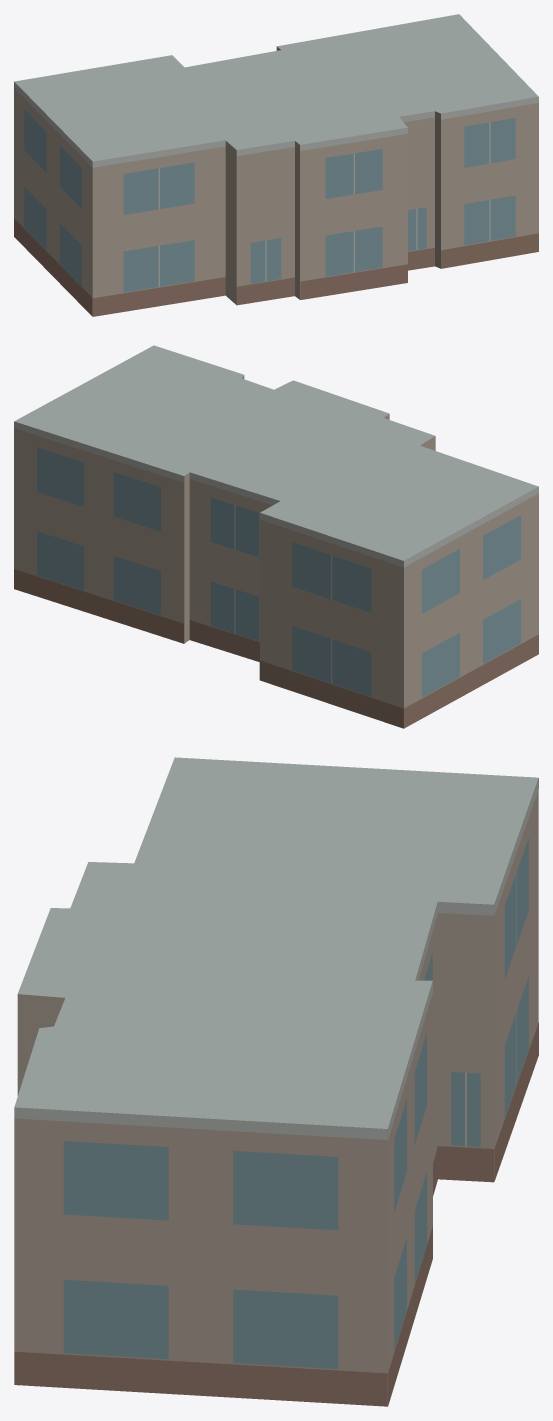
The model's file is survey-upis-32668912.glb.
The picture shows the model from 3 angles, top to bottom: view 1: azimuth 30°, elevation 25°; view 2: azimuth 150°, elevation 25°; view 3: azimuth 270°, elevation 25°; orthographic projection. The views are drawn at different scales.
Visible parts, largest first — view 1: survey-upis-32668912.tmp; view 2: survey-upis-32668912.tmp; view 3: survey-upis-32668912.tmp.
Part boxes in pixels (x1,y1,x2,y2): survey-upis-32668912.tmp: (14,14,538,316); survey-upis-32668912.tmp: (14,345,538,728); survey-upis-32668912.tmp: (14,757,538,1406).
Size of the model in its own units: 17.54 by 6.1 by 10.46.
